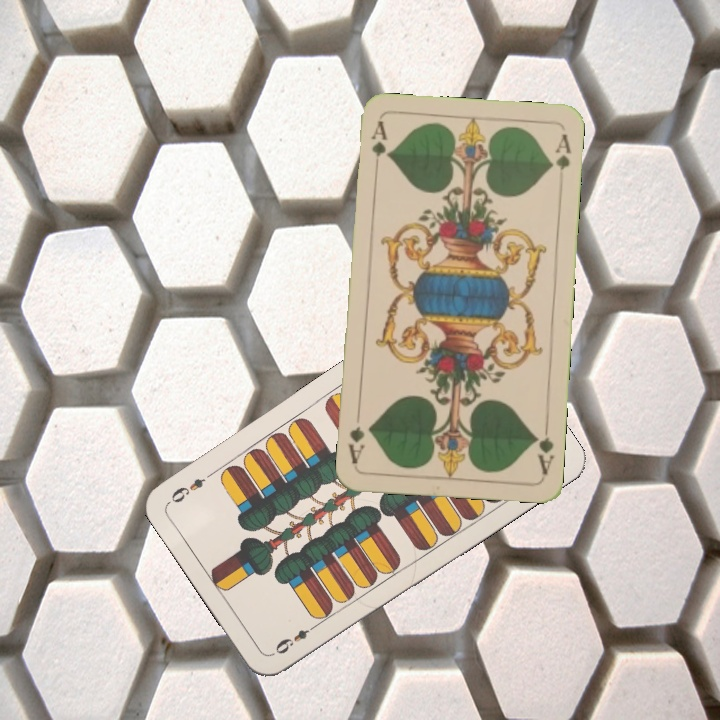E9: (271, 619, 321, 657)
GA: (530, 418, 556, 477), (367, 117, 389, 176)
